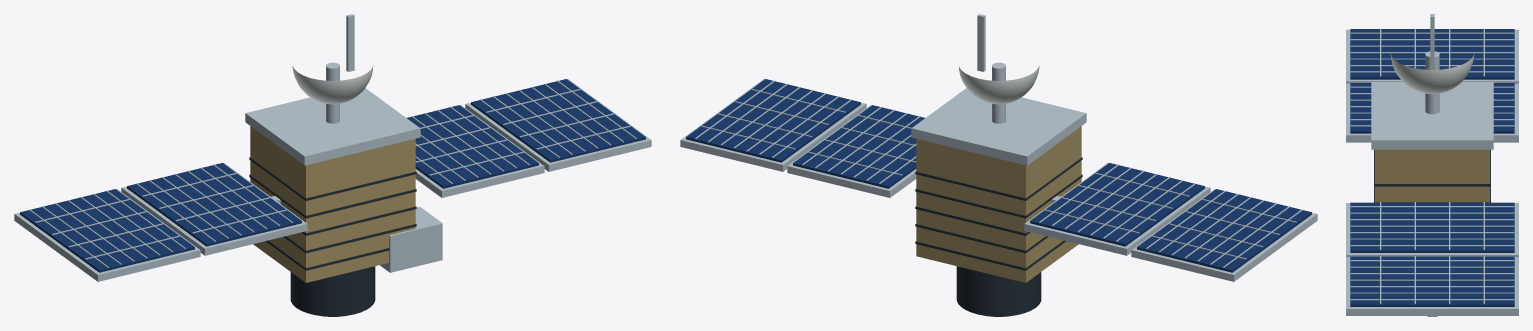
File: satellite.glb
3 views of the same model, side by side, from view 1: azimuth 30°, elevation 25°; view 2: azimuth 150°, elevation 25°; view 3: azimuth 270°, elevation 25° (orthographic). The views are drawn at different scales.
Parts seen in each view (by area): view 1: solar, bus, payload, link; view 2: solar, bus, payload, link; view 3: solar, bus, link.
Boxes of the visible parts, x1,y1,x2,y2 form: solar: [14, 79, 651, 281]; bus: [245, 88, 420, 282]; payload: [290, 206, 442, 316]; link: [292, 14, 373, 123]; solar: [680, 79, 1317, 281]; bus: [911, 88, 1086, 282]; payload: [956, 266, 1041, 316]; link: [958, 14, 1039, 123]; solar: [1346, 28, 1518, 316]; bus: [1371, 82, 1493, 202]; link: [1390, 14, 1474, 114].
Size of the model in its own units: 6.31 by 3.07 by 1.65.
